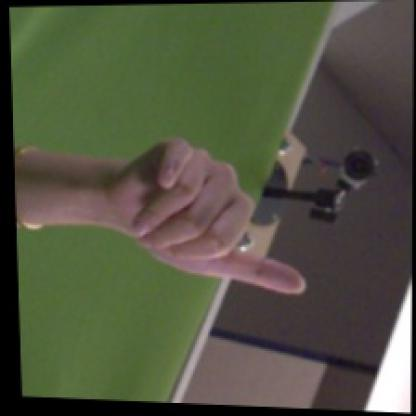Hand: (108, 137, 306, 296)
